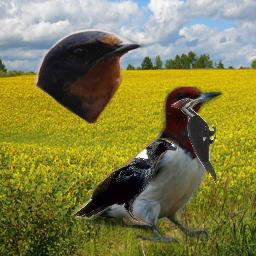Crow: (71, 138, 179, 225)
Swallow: (34, 28, 145, 124)
Woodpecker: (79, 86, 225, 244), (171, 98, 216, 185)
